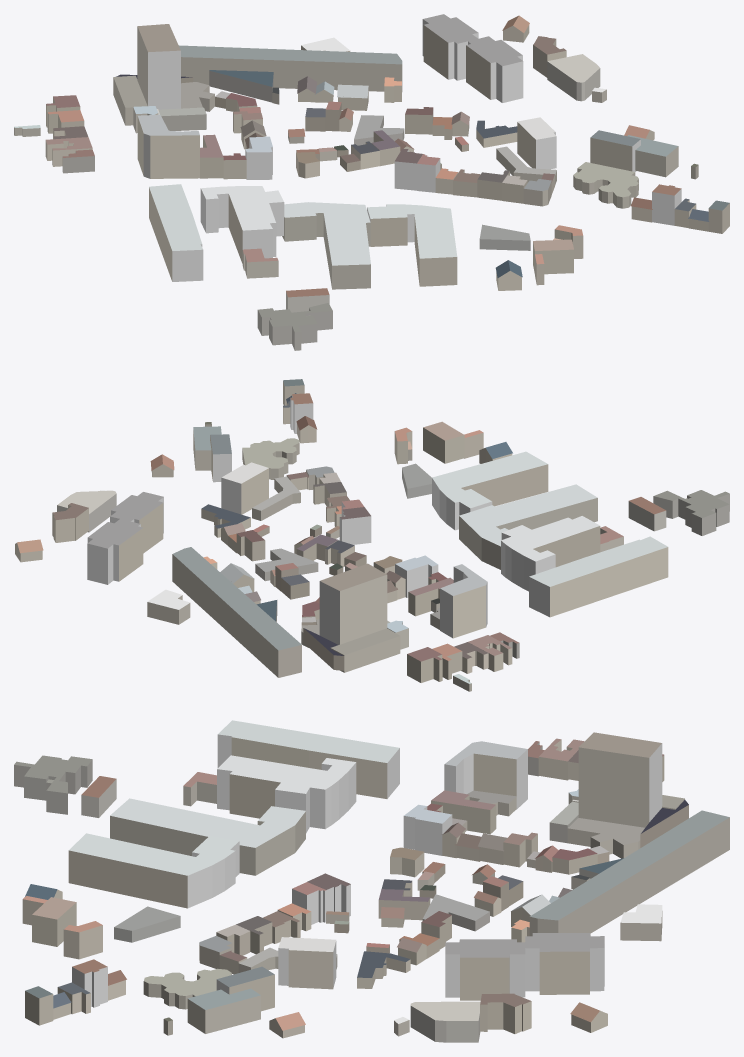
3 renders of one model, top to bottom at view 1: azimuth 30°, elevation 25°; view 2: azimuth 150°, elevation 25°; view 3: azimuth 270°, elevation 25°, orthographic. The views are drawn at different scales.
Visible parts, largest first — view 1: tuile; view 2: tuile; view 3: tuile.
Part boxes in pixels (<box>): tuile: <box>14,14,729,350</box>; tuile: <box>15,379,729,691</box>; tuile: <box>14,720,729,1042</box>.
Size of the model in its own units: 275 by 47.17 by 283.
